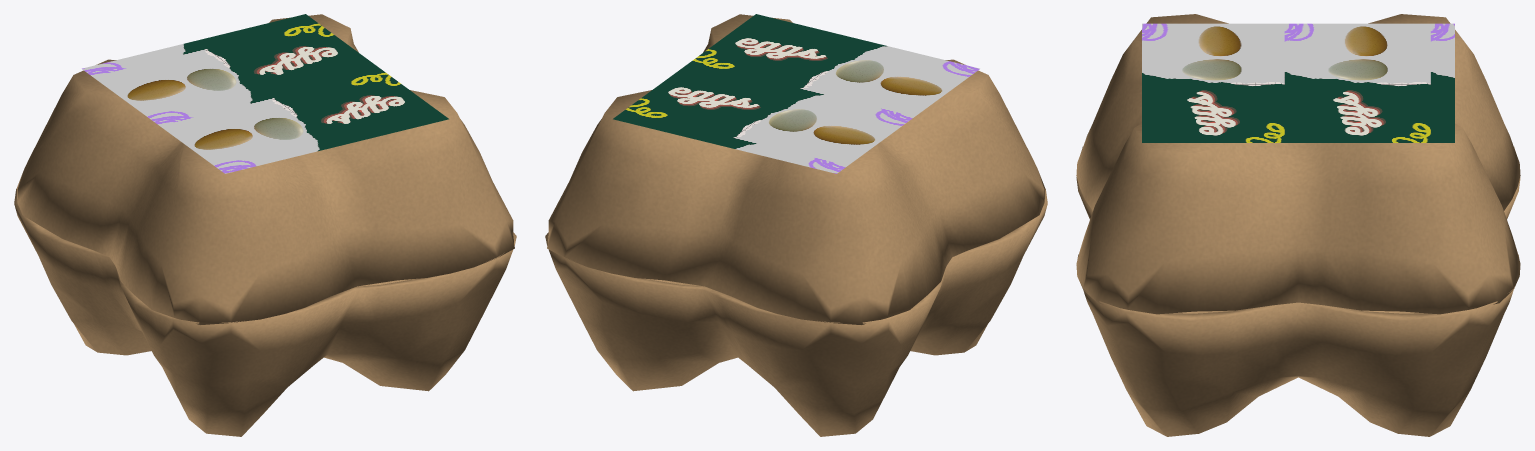
Rendered from eggpackage.glb.
3 renders of one model, left to right at view 1: azimuth 30°, elevation 25°; view 2: azimuth 150°, elevation 25°; view 3: azimuth 270°, elevation 25°, orthographic. The views are drawn at different scales.
Visible parts, largest first — view 1: eggpackage.001, eggpackage; view 2: eggpackage.001, eggpackage; view 3: eggpackage.001, eggpackage.
Boxes of the visible parts, bbox=[...] form: eggpackage.001: bbox=[16, 14, 514, 324]; eggpackage: bbox=[14, 189, 516, 436]; eggpackage.001: bbox=[547, 14, 1045, 324]; eggpackage: bbox=[545, 189, 1047, 436]; eggpackage.001: bbox=[1076, 14, 1520, 314]; eggpackage: bbox=[1076, 147, 1520, 436].
Bounding box in the file's own units: 1.11 × 0.7927 × 1.09.
1 material, 1 textured.
